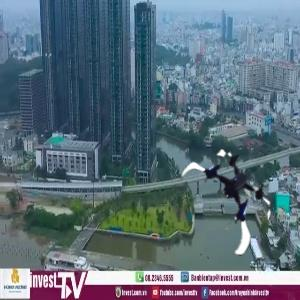drone: (177, 141, 281, 245)
